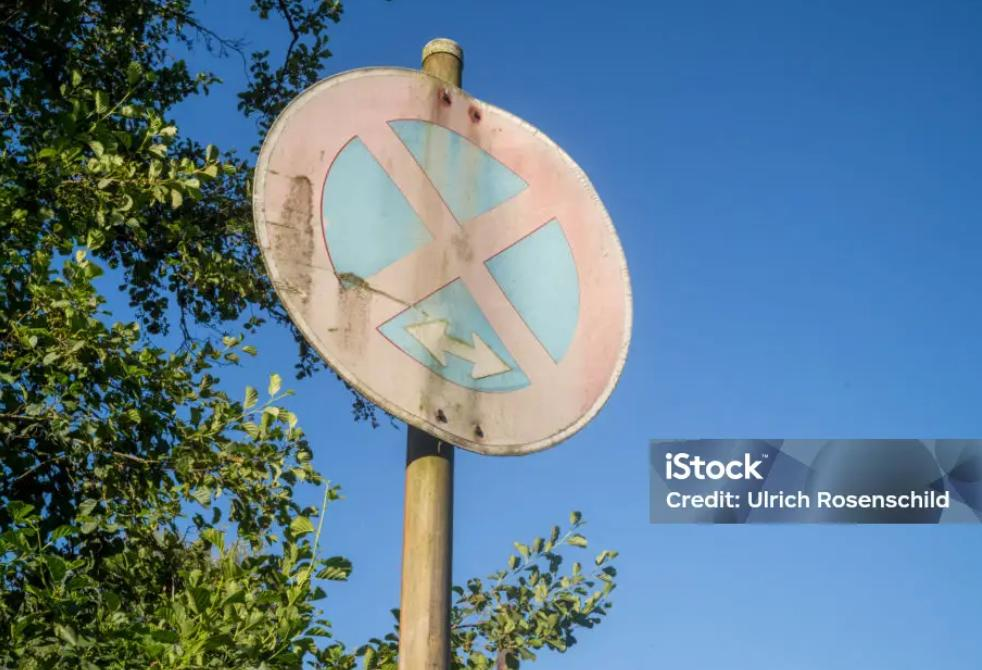obstructed_road_sign: (253, 68, 632, 454)
